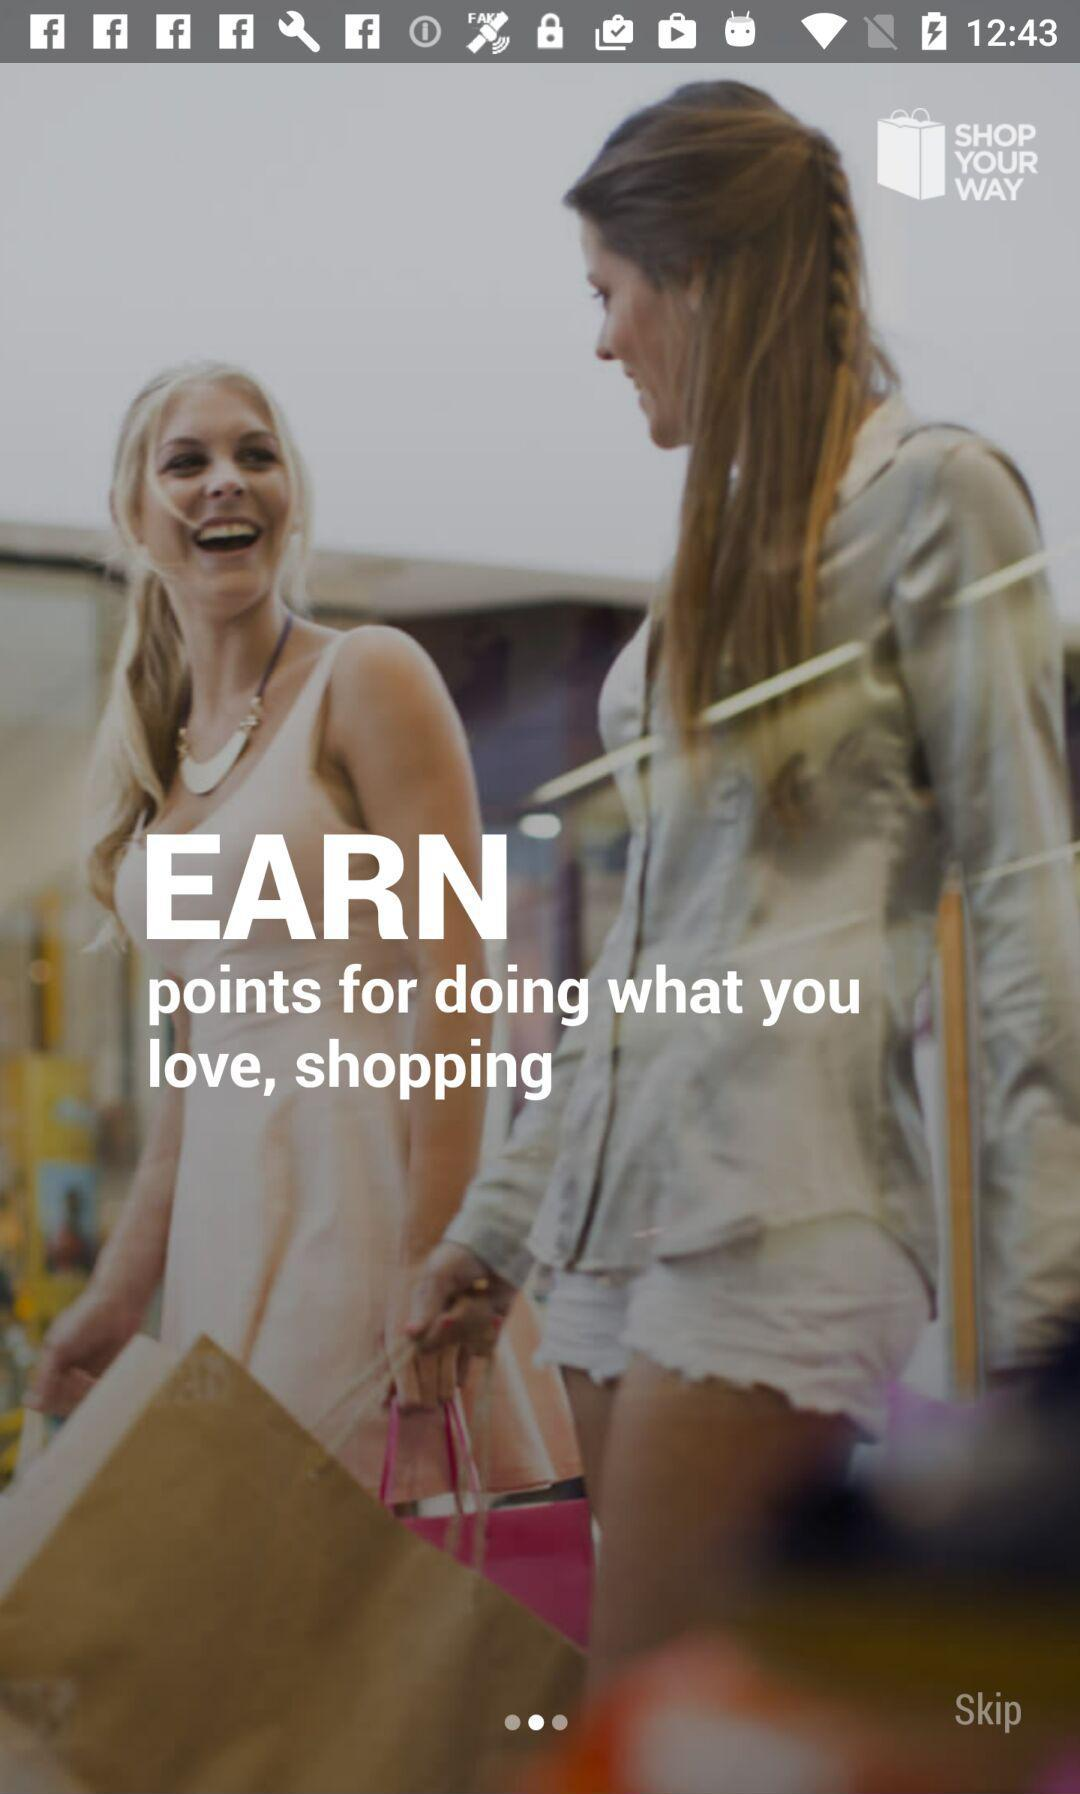BackgroundImage: (1, 64, 1080, 1794)
Image: (872, 104, 1040, 202)
PageIndicator: (503, 1713, 570, 1732)
Text: (149, 962, 863, 1105), (147, 832, 511, 942), (954, 1691, 1024, 1735)
UpperTaskBar: (1, 1, 1080, 64)
